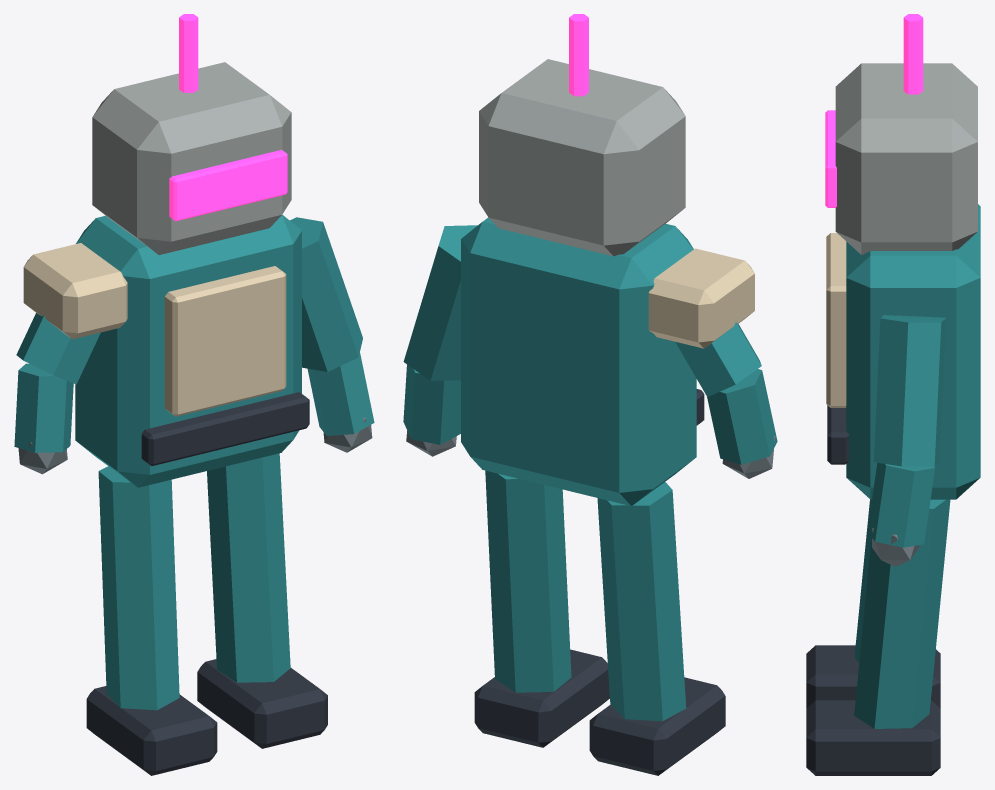
The model's file is npcs_028_seed11.glb.
3 renders of one model, left to right at view 1: azimuth 30°, elevation 25°; view 2: azimuth 150°, elevation 25°; view 3: azimuth 270°, elevation 25°, orthographic. The views are drawn at different scales.
Visible parts, largest first — view 1: npcs_028_seed11; view 2: npcs_028_seed11; view 3: npcs_028_seed11.
Part boxes in pixels (<box>): npcs_028_seed11: <box>14,14,374,775</box>; npcs_028_seed11: <box>403,14,777,775</box>; npcs_028_seed11: <box>806,14,980,775</box>.
Bounding box in the file's own units: 0.94 × 1.79 × 0.394.
